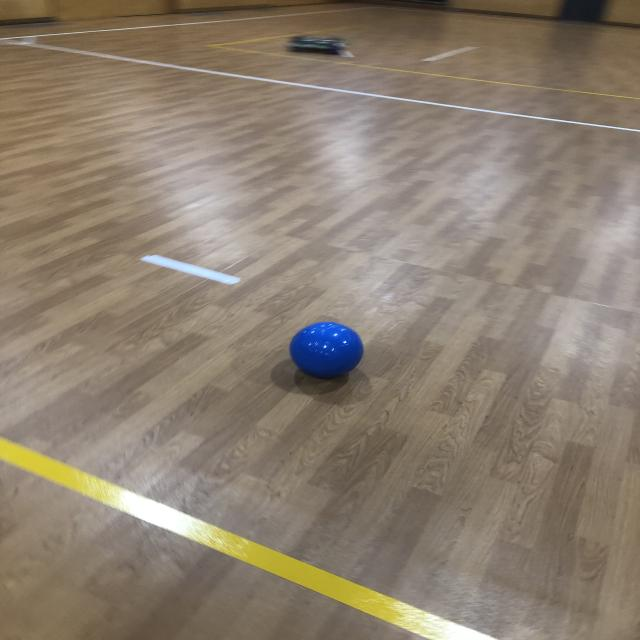blue_ball: (293, 323, 365, 377)
